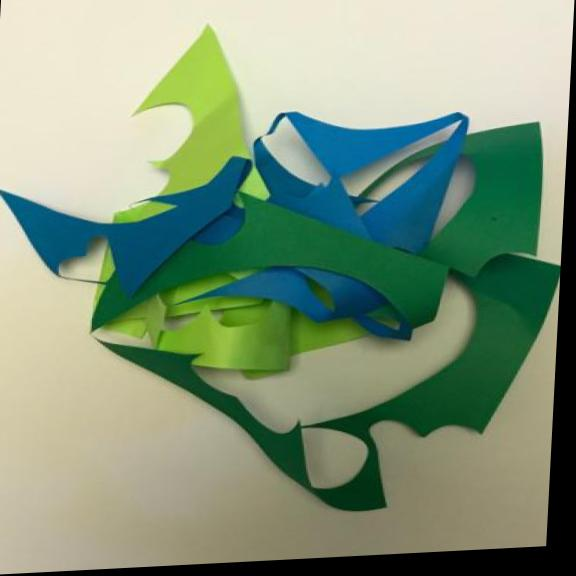Kertas: (162, 99, 486, 533), (0, 15, 261, 409), (401, 120, 568, 458)
